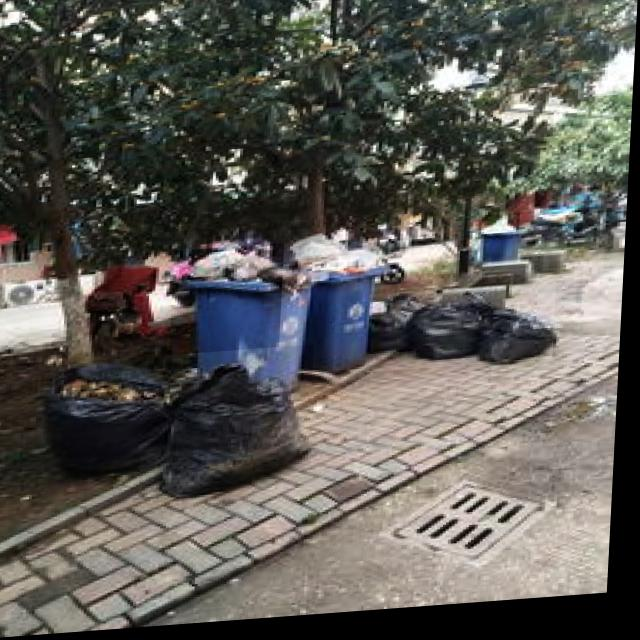garbage: (43, 350, 318, 508), (369, 290, 560, 379)
overflow: (171, 246, 316, 401), (282, 228, 395, 380), (480, 221, 523, 268)
